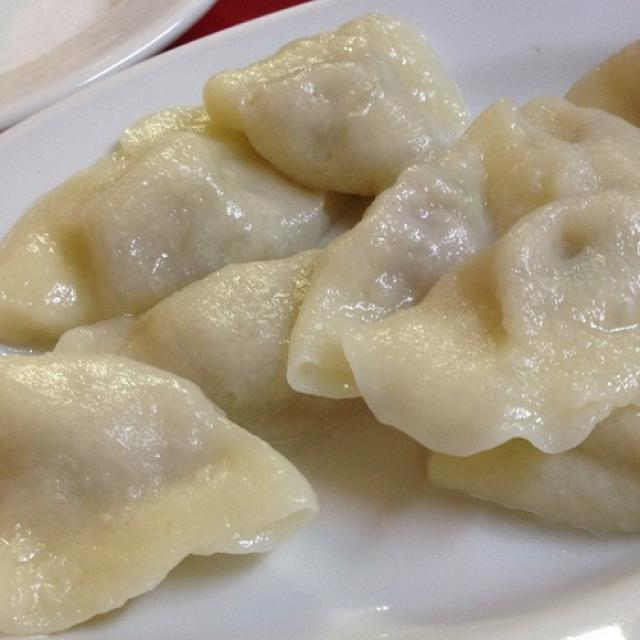带馅早点: (0, 10, 635, 636)
